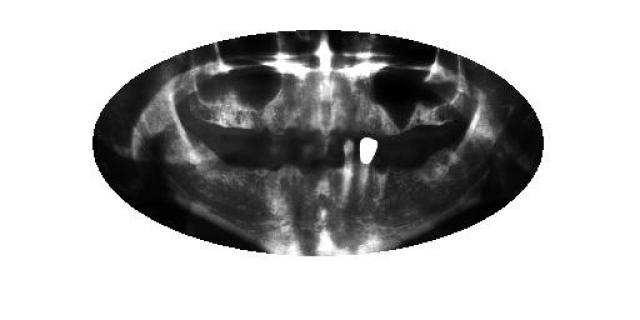Fillings: (360, 136, 379, 202)
